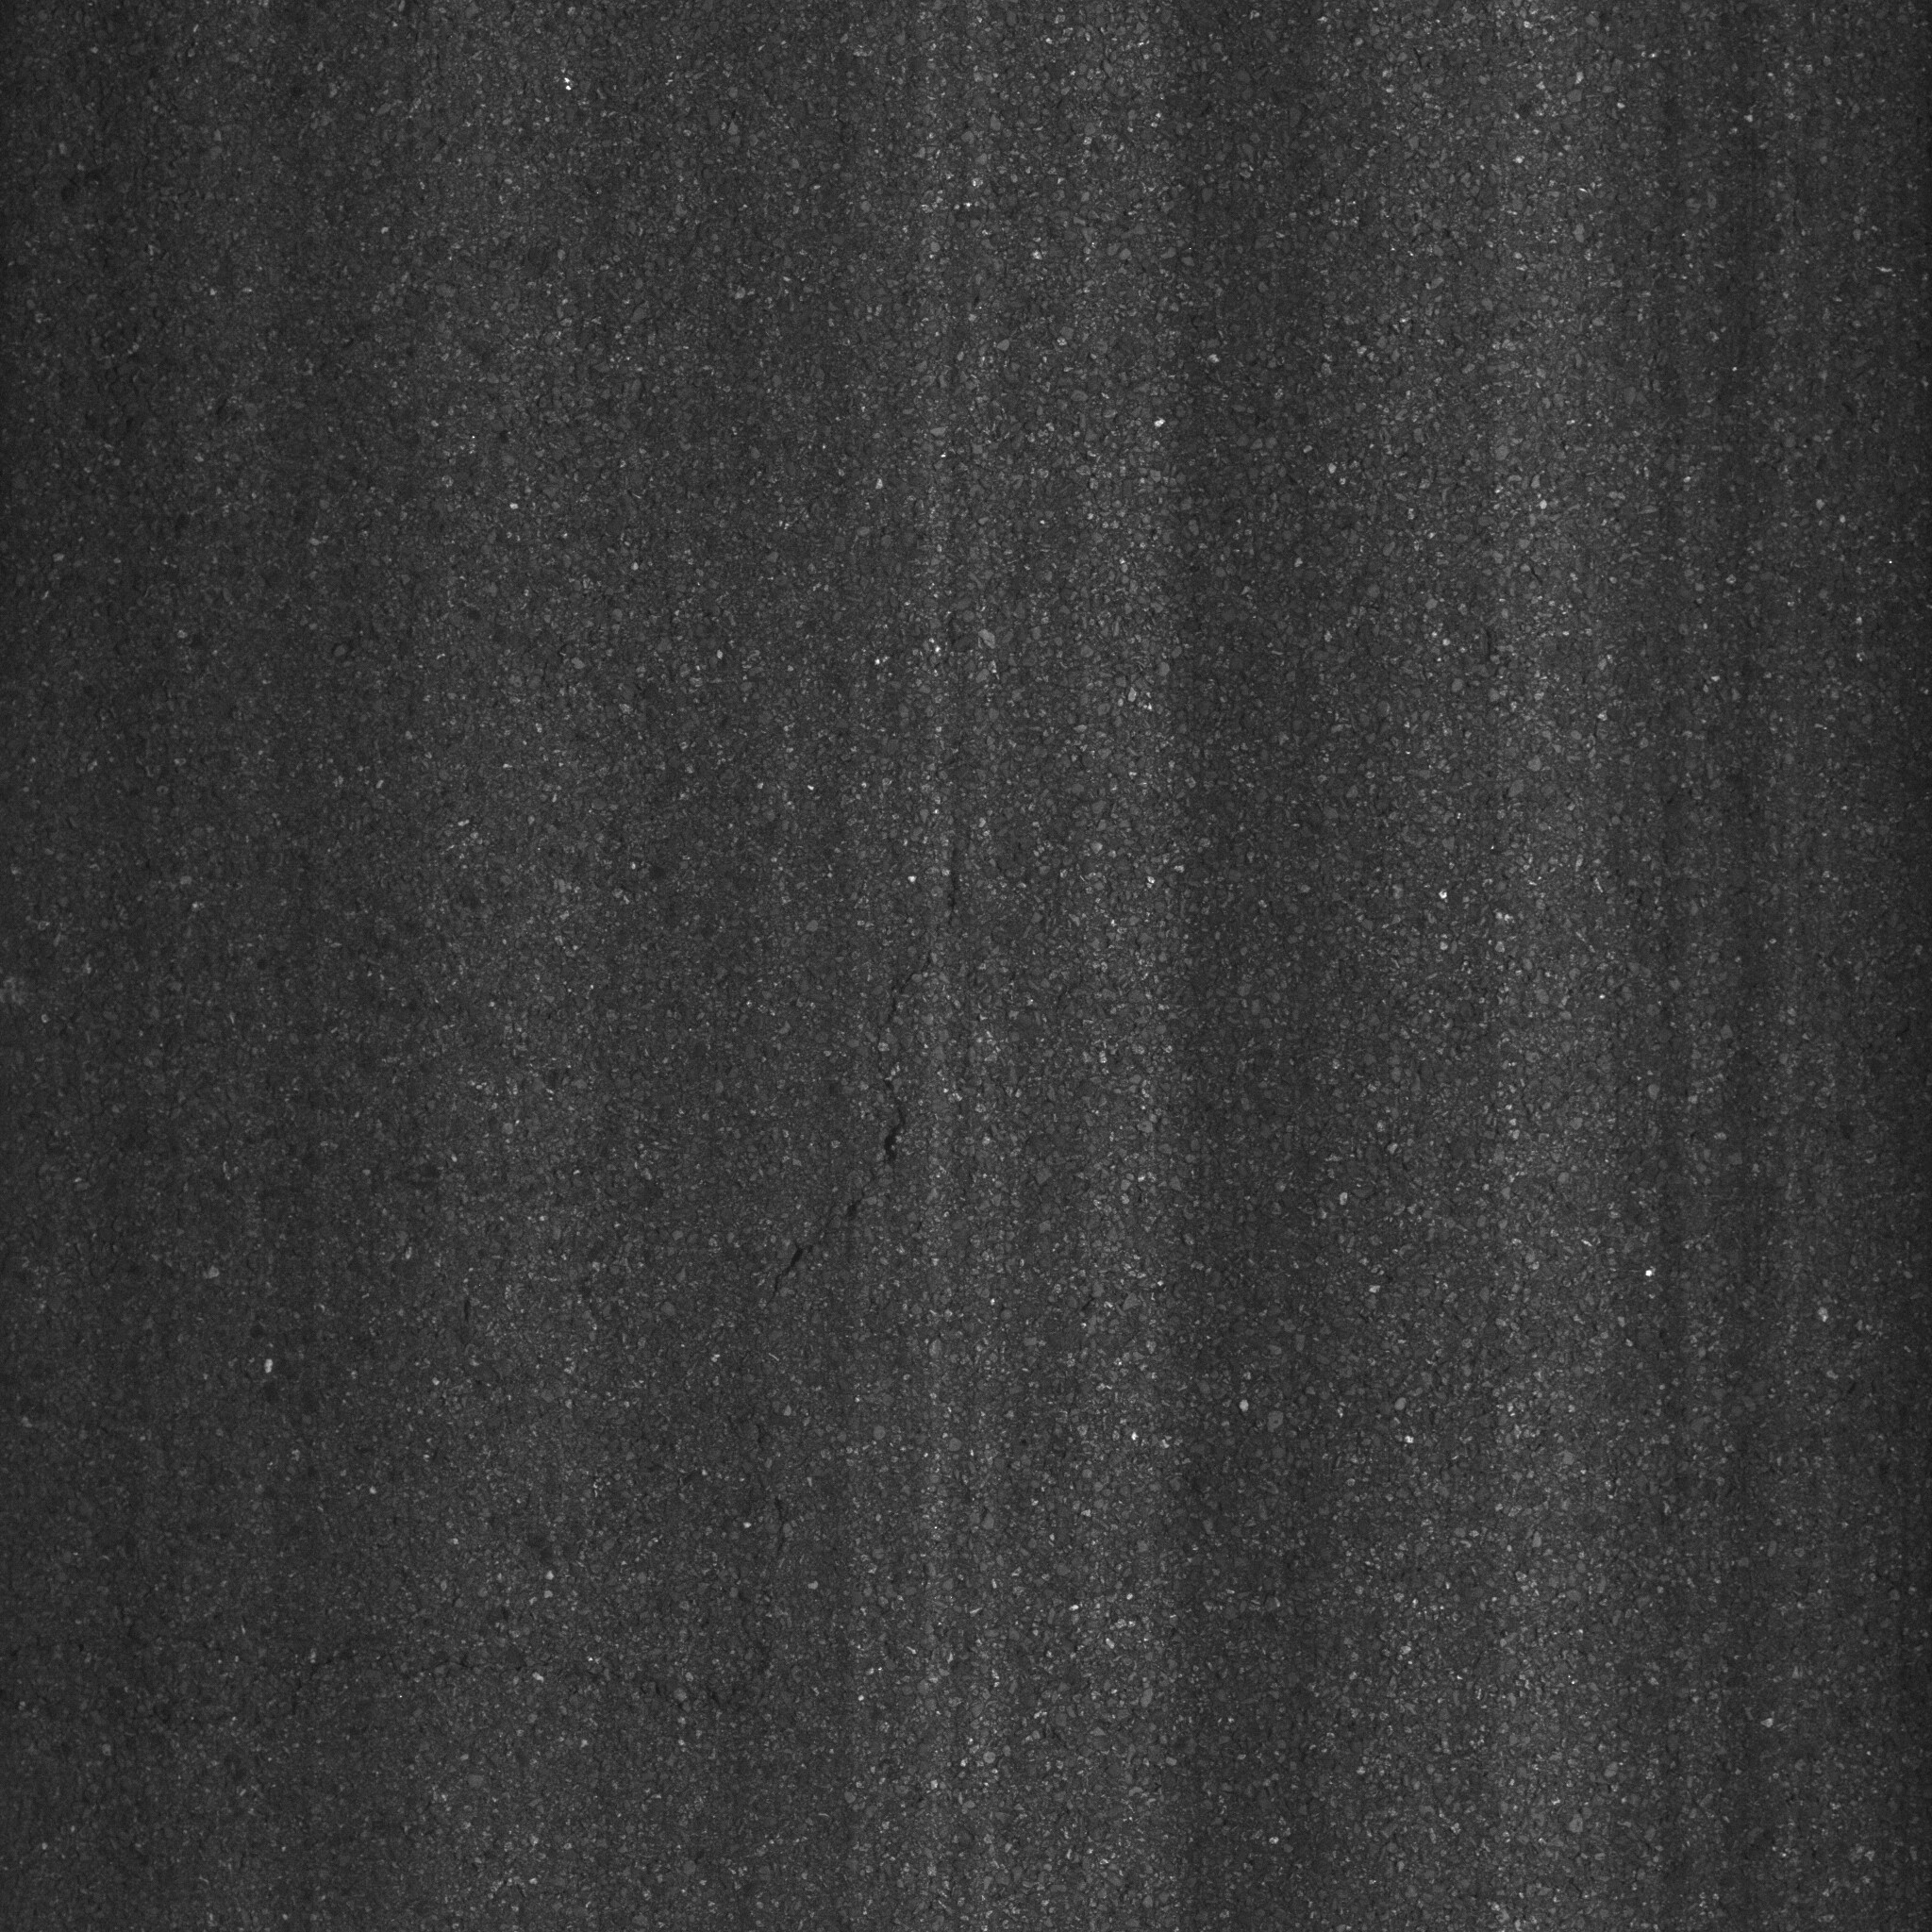longitudinal: (738, 648, 1007, 1339)
